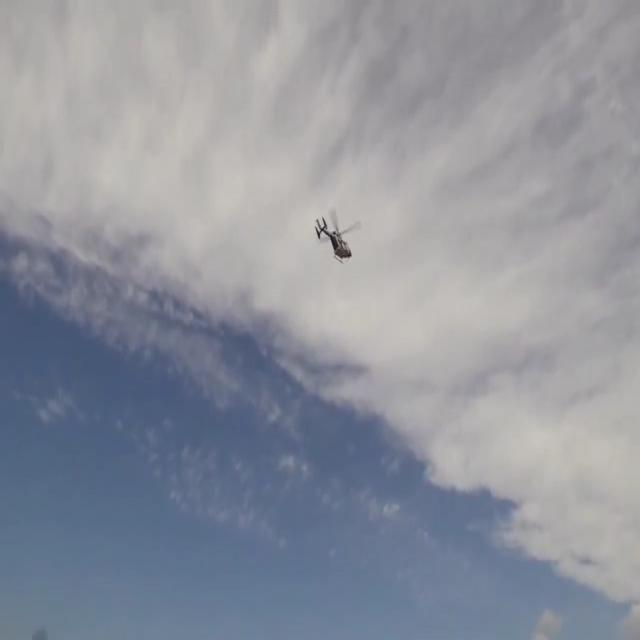Helicopter: (300, 191, 374, 280)
